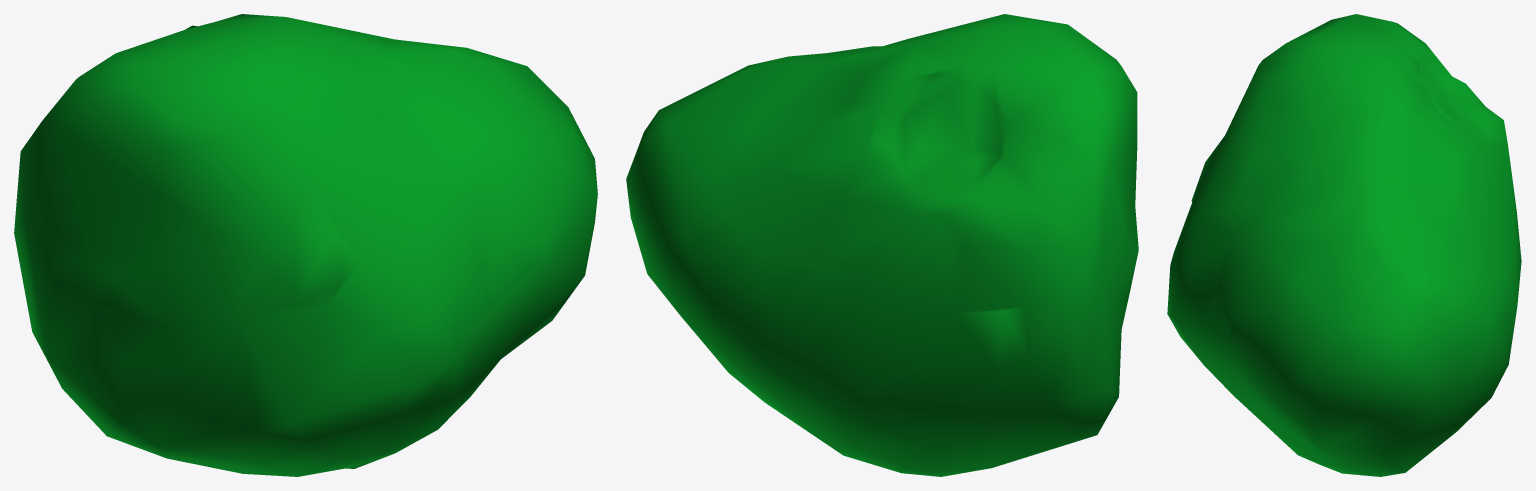
File: asteroid.fbx
The picture shows the model from 3 angles, left to right: view 1: azimuth 30°, elevation 25°; view 2: azimuth 150°, elevation 25°; view 3: azimuth 270°, elevation 25°; orthographic projection. The views are drawn at different scales.
Visible parts, largest first — view 1: Daphne_LP.001; view 2: Daphne_LP.001; view 3: Daphne_LP.001.
Part boxes in pixels (x1,y1,x2,y2): Daphne_LP.001: (14,14,597,476); Daphne_LP.001: (626,14,1138,476); Daphne_LP.001: (1167,14,1521,476).
Size of the model in its own units: 2922 by 2463 by 2090.
